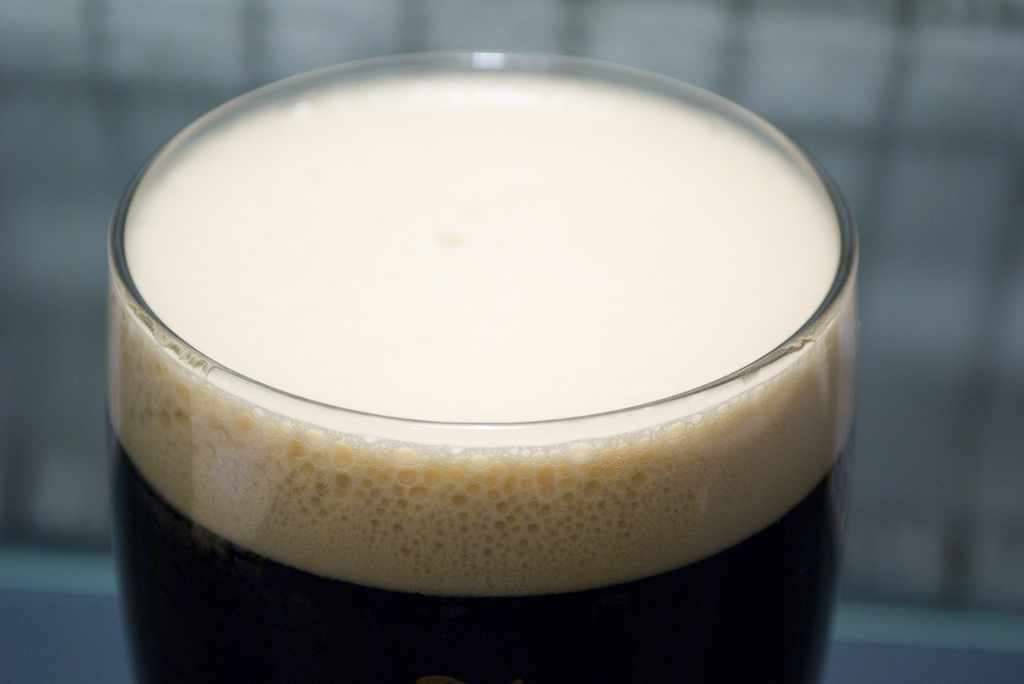Beer: (100, 48, 860, 684)
